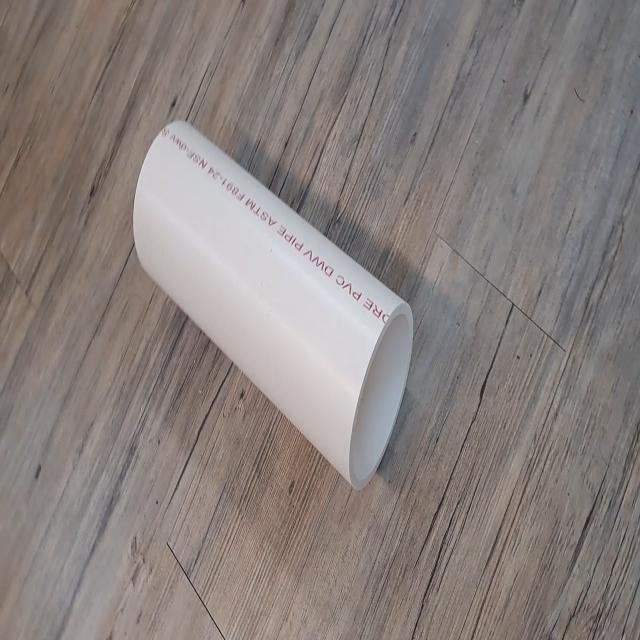CORAL: (127, 112, 416, 490)
